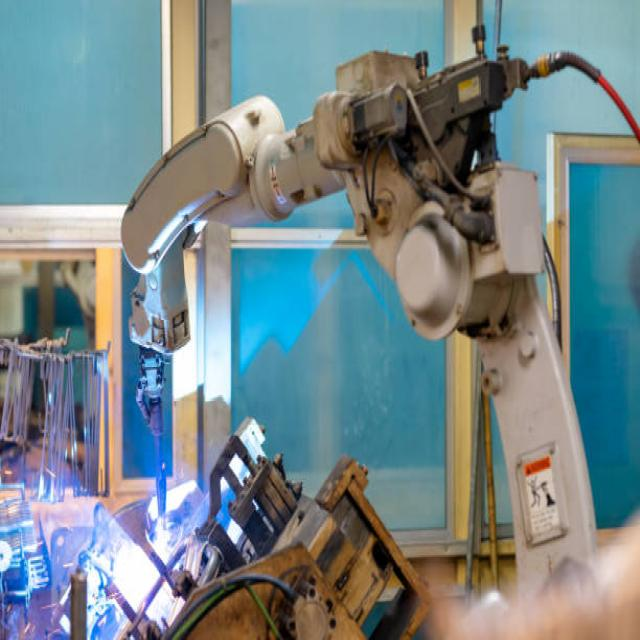Robotic-arm: (120, 29, 608, 594)
